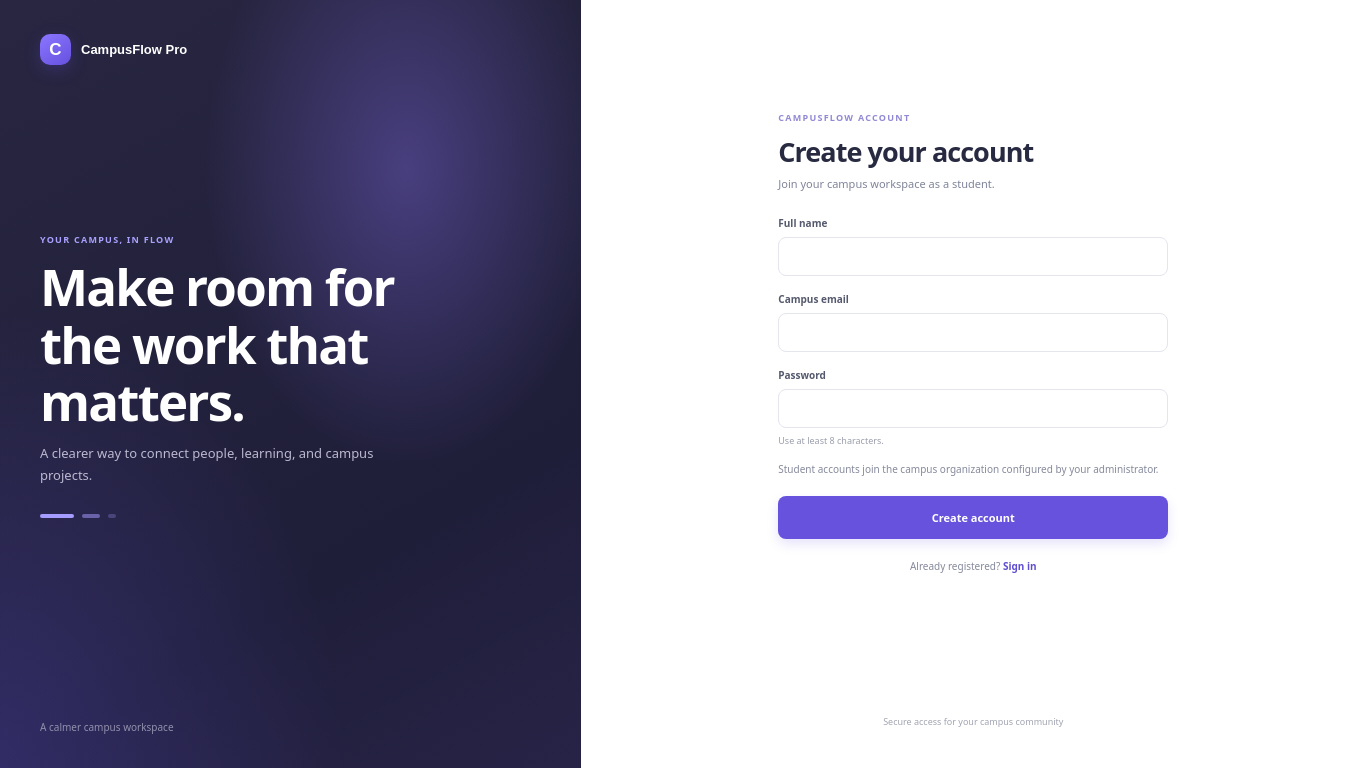
authentication pages and session › shows server validation failures on registration
The image size is (1366, 768).
Step 1. Type "Asha Student" into the field labelled "Full name" → (973, 257), box [778,237,1168,276]
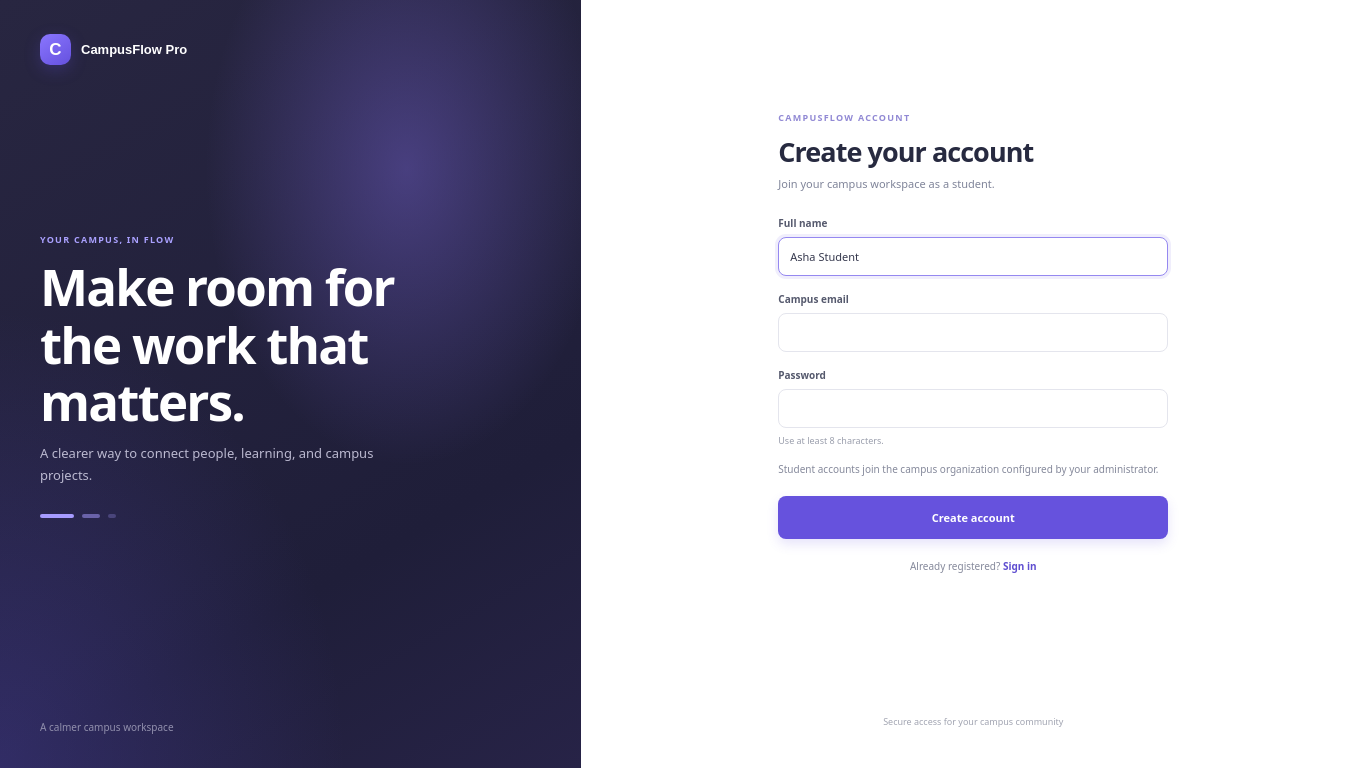
Step 2. Type "asha@example.edu" into the field labelled "Campus email" → (973, 333), box [778,313,1168,352]
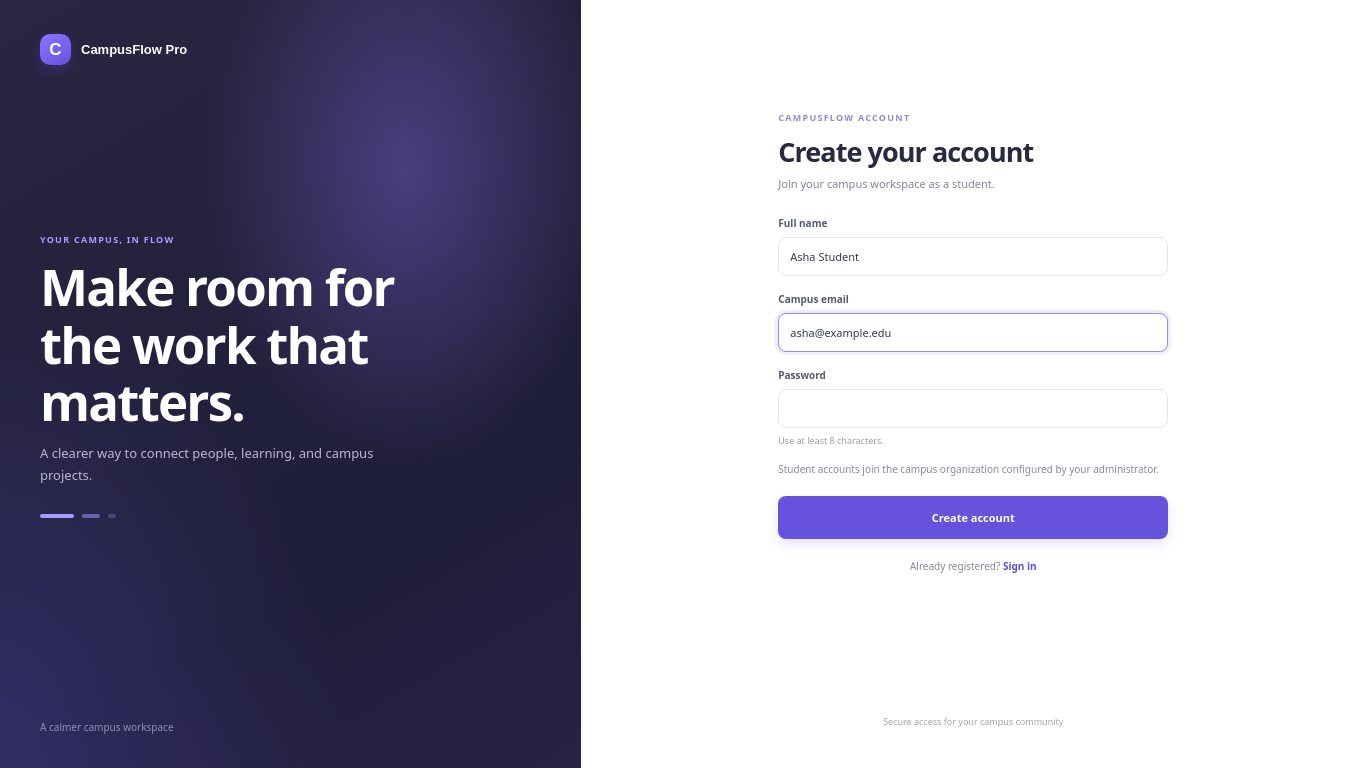
Step 3. Type "campus-password" into the password field labelled "Password Use at least 8 characters." → (973, 409), box [778,389,1168,428]
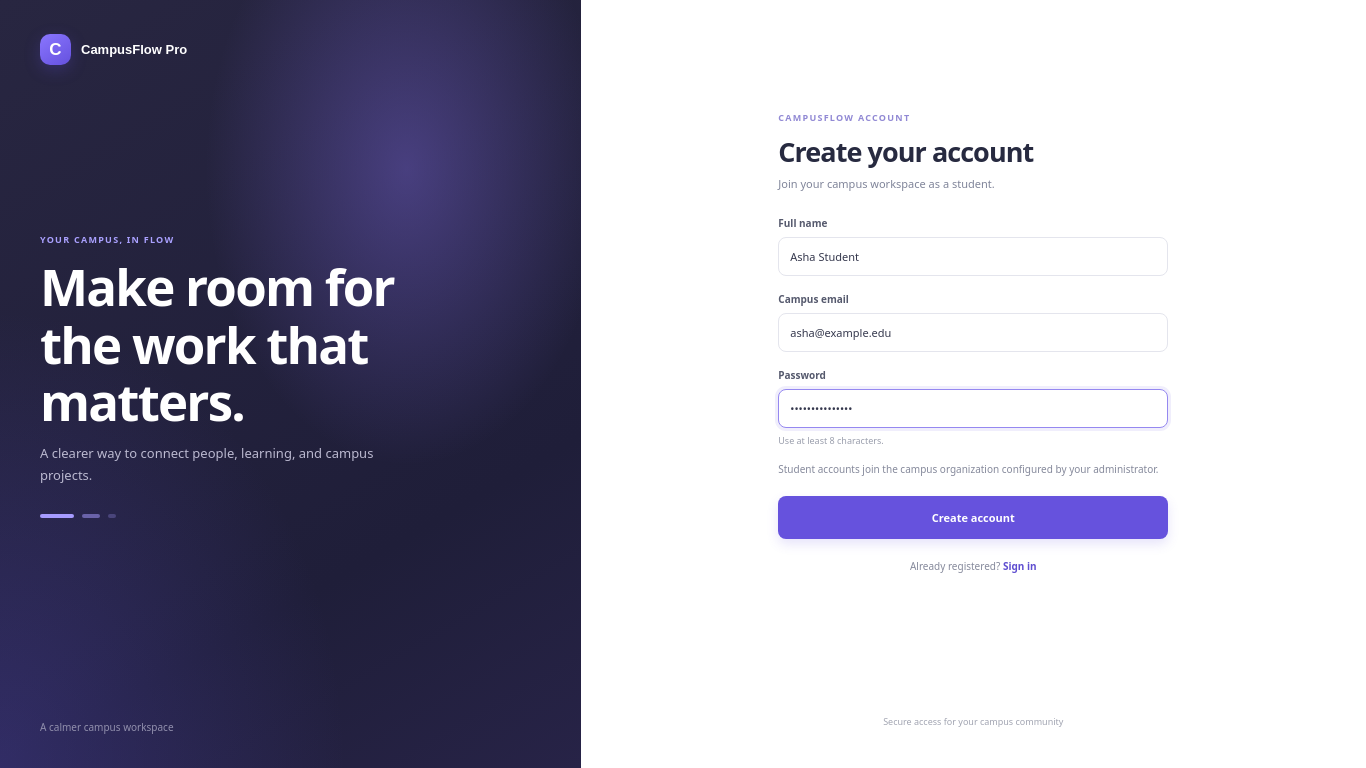
Step 4. Click the button "Create account" → (973, 517), box [778,496,1168,539]
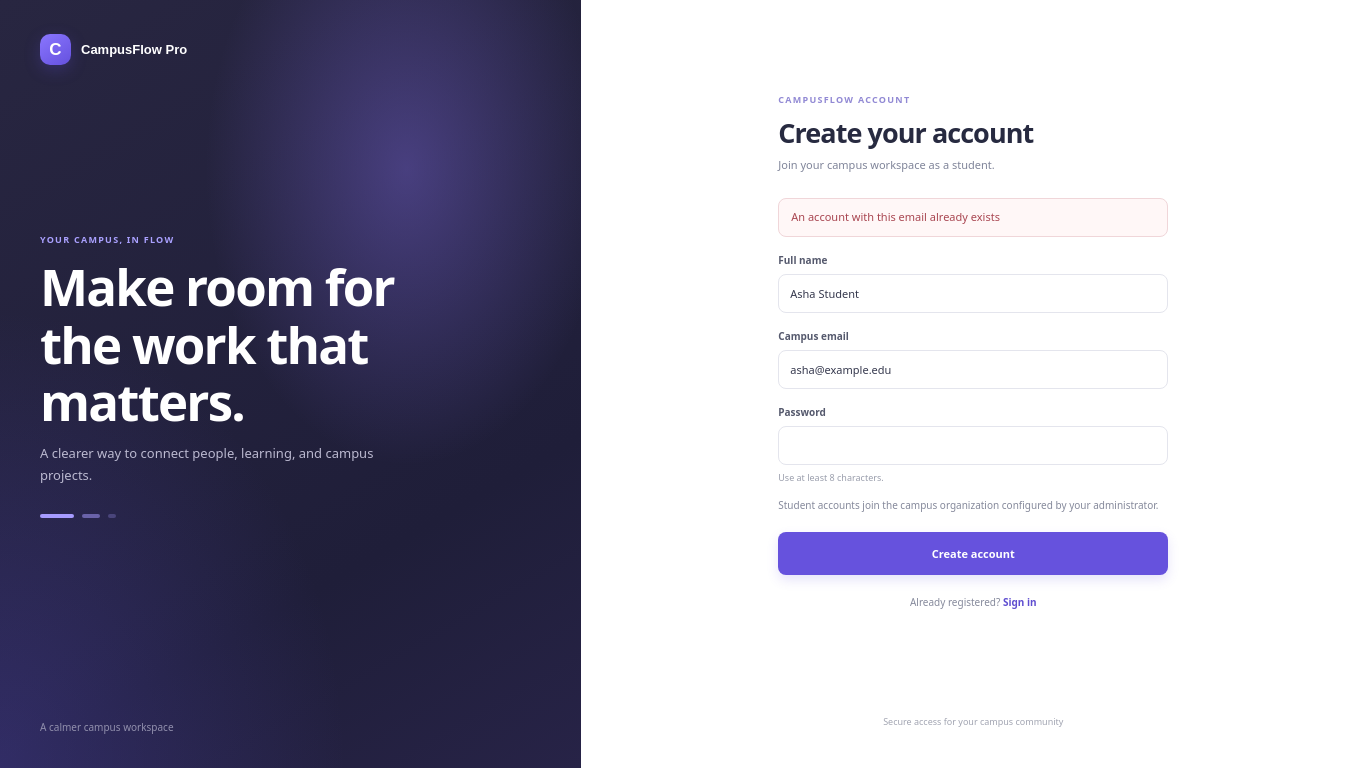
Expected: the message reads "An account with this email already exists", [791,209,1000,224]
